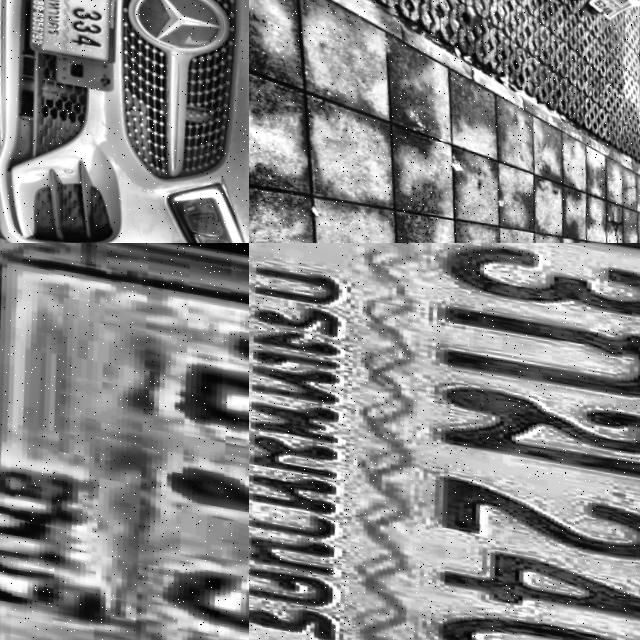license-plate: (249, 243, 640, 640), (0, 243, 249, 640), (13, 0, 124, 64)
